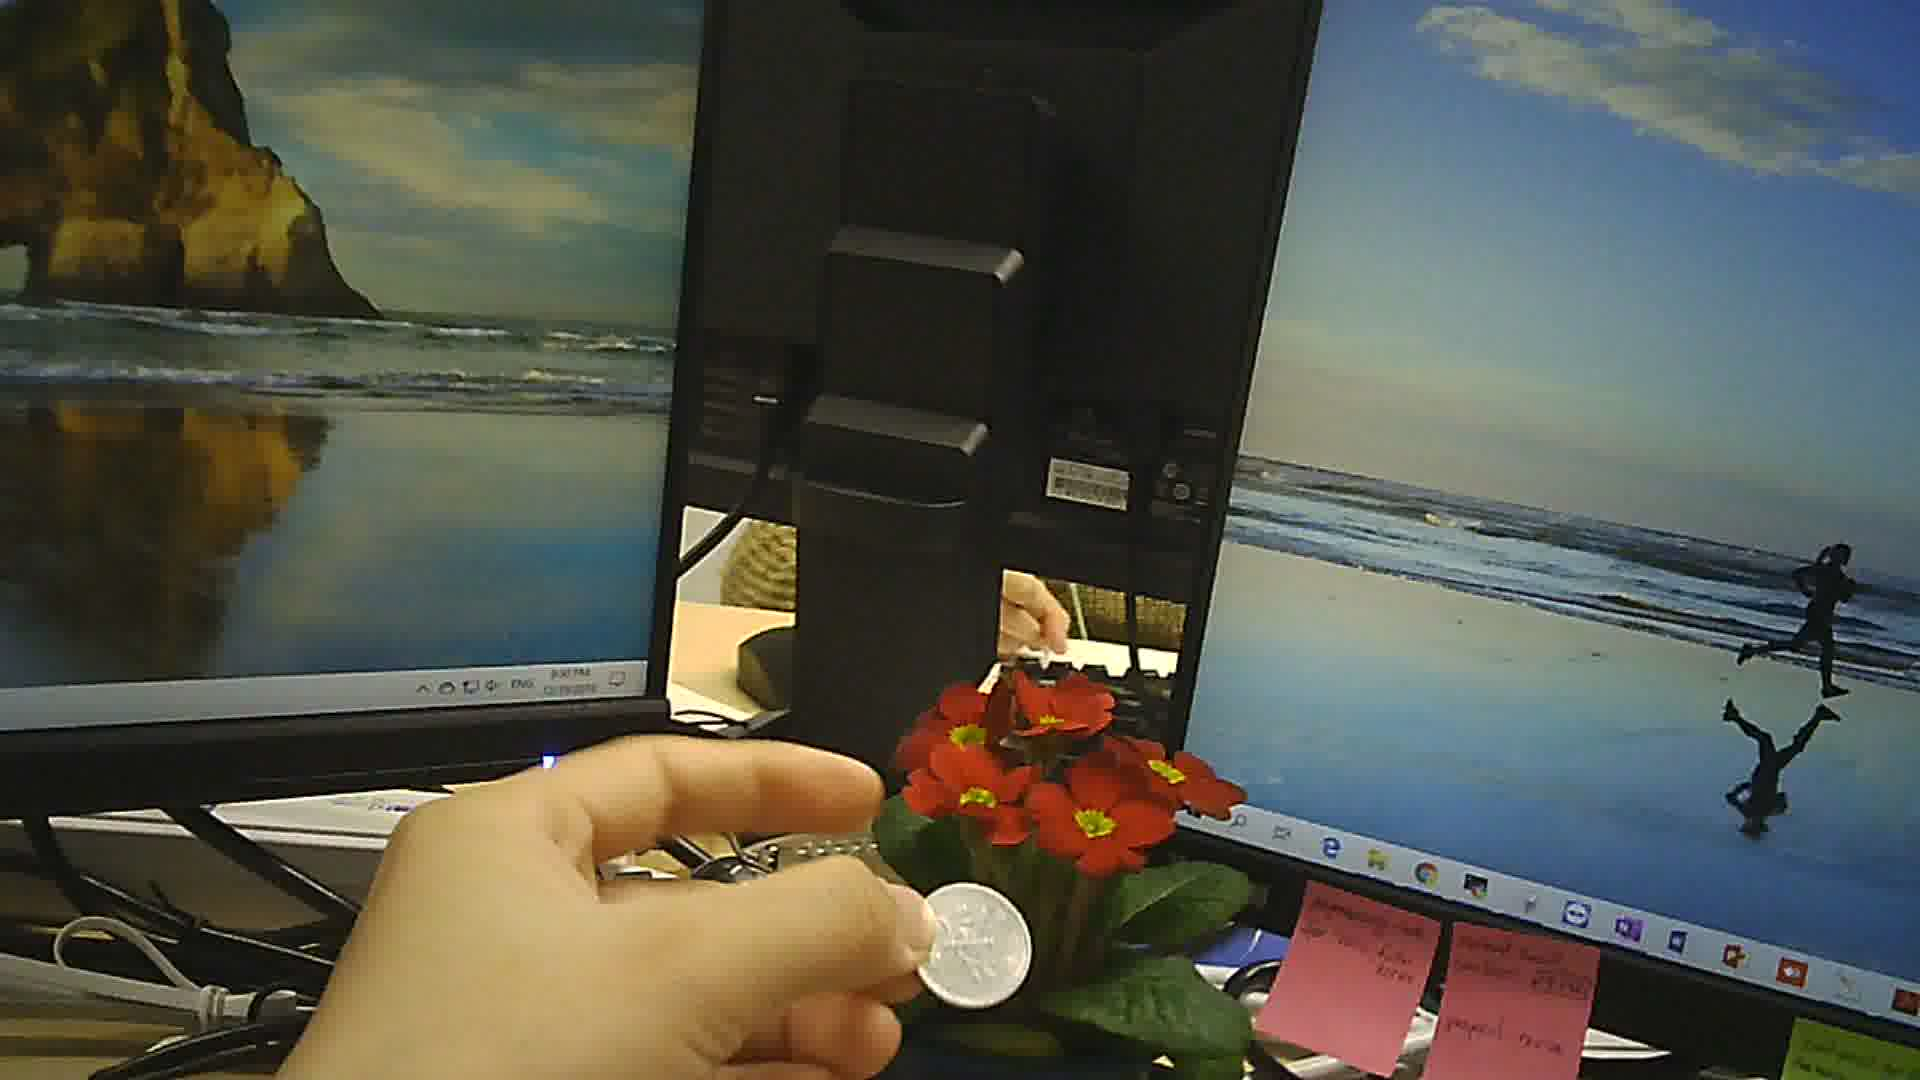1 Yen: (910, 872, 1033, 1007)
